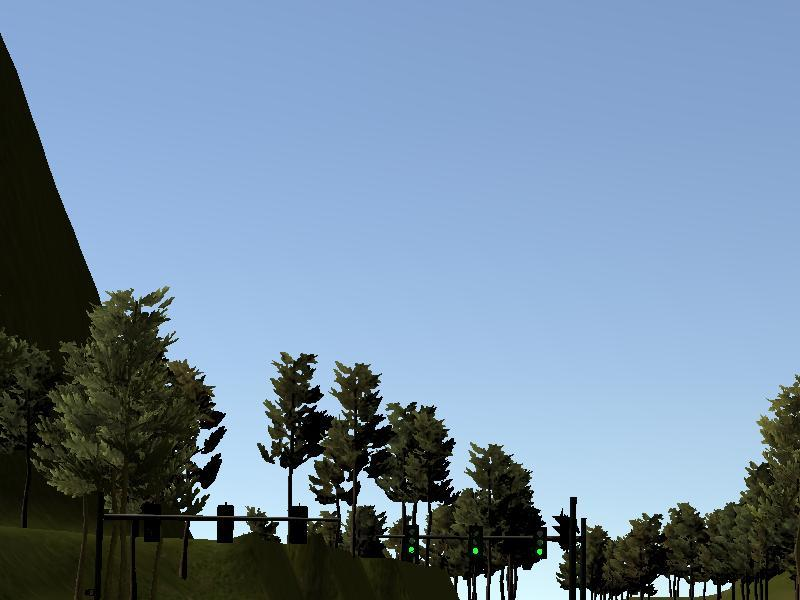Green: (401, 524, 418, 556), (533, 528, 548, 559), (467, 530, 482, 560)
